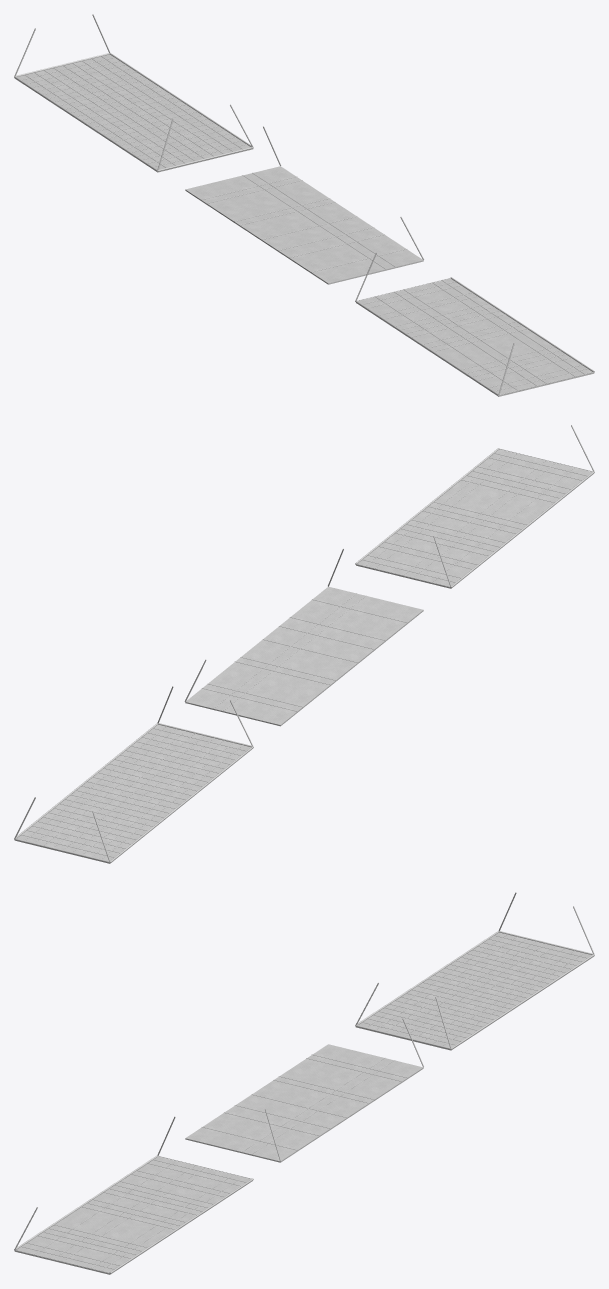
The model's file is HighwireHorizon_09.obj.
The picture shows the model from 3 angles, top to bottom: view 1: azimuth 30°, elevation 25°; view 2: azimuth 150°, elevation 25°; view 3: azimuth 330°, elevation 25°; orthographic projection.
Visible parts, largest first — view 1: Box00116, Box00118, Box00117; view 2: Box00116, Box00118, Box00117; view 3: Box00116, Box00118, Box00117.
Part boxes in pixels (bbox=[...]): Box00116: bbox=[185, 166, 423, 284]; Box00118: bbox=[356, 278, 594, 396]; Box00117: bbox=[14, 54, 252, 172]; Box00116: bbox=[185, 586, 423, 726]; Box00118: bbox=[356, 449, 594, 588]; Box00117: bbox=[14, 724, 253, 863]; Box00116: bbox=[185, 1044, 423, 1162]; Box00118: bbox=[14, 1156, 252, 1274]; Box00117: bbox=[356, 932, 594, 1050].
Size of the model in its own units: 20.32 by 16.54 by 176.
Materials: 2 (2 with a texture image).
